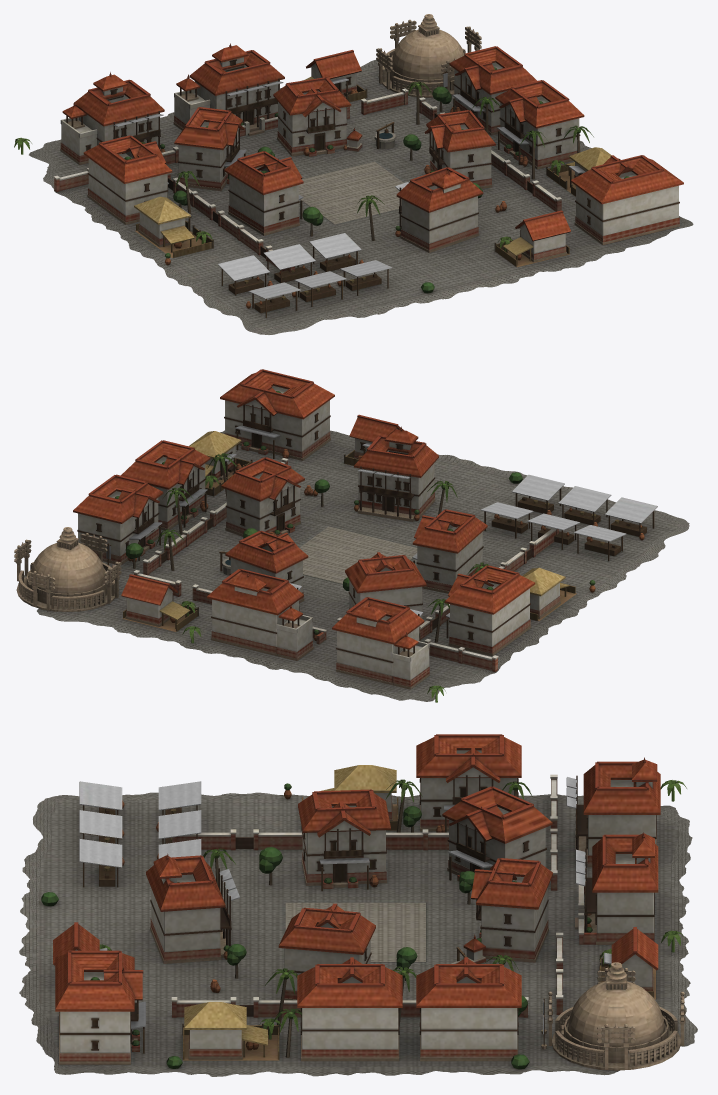
Rendered from classical-town-medium-b-indic.glb.
The picture shows the model from 3 angles, top to bottom: view 1: azimuth 30°, elevation 25°; view 2: azimuth 150°, elevation 25°; view 3: azimuth 270°, elevation 25°; orthographic projection. The views are drawn at different scales.
Visible parts, largest first — view 1: LOD0; view 2: LOD0; view 3: LOD0.
Part boxes in pixels (<box>): LOD0: <box>14,14,693,334</box>; LOD0: <box>14,369,689,702</box>; LOD0: <box>19,734,697,1076</box>.
Size of what is drawn, in the model's own units: 6.03 by 0.934 by 6.09.
Materials: 3 (3 with a texture image).
